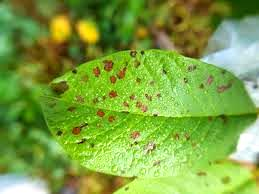Xanthomonas: (38, 47, 256, 179)
